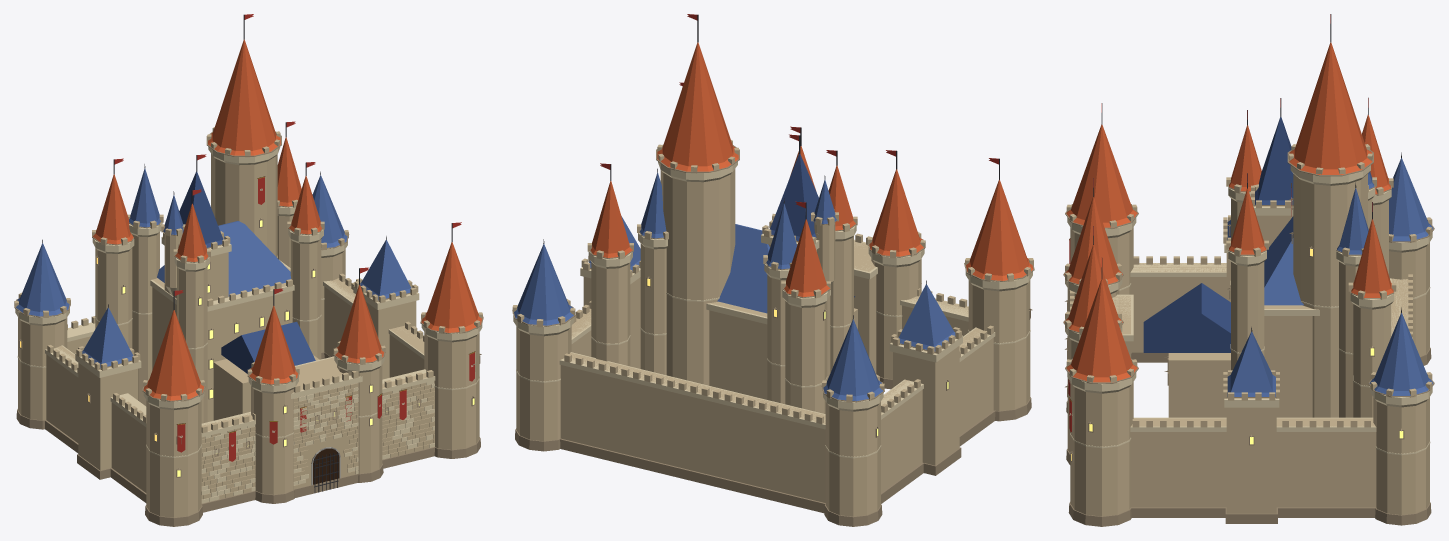
Rendered from Landmark_Castle.fbx.
The picture shows the model from 3 angles, left to right: view 1: azimuth 30°, elevation 25°; view 2: azimuth 150°, elevation 25°; view 3: azimuth 270°, elevation 25°; orthographic projection. The views are drawn at different scales.
Parts seen in each view (by area): view 1: Landmark_Castle_LOD0; view 2: Landmark_Castle_LOD0; view 3: Landmark_Castle_LOD0.
Boxes of the visible parts, x1,y1,x2,y2 form: Landmark_Castle_LOD0: (14, 14, 483, 526); Landmark_Castle_LOD0: (512, 14, 1034, 526); Landmark_Castle_LOD0: (1063, 14, 1434, 526).
Size of what is drawn, in the model's own units: 52.48 by 58.2 by 44.64.
